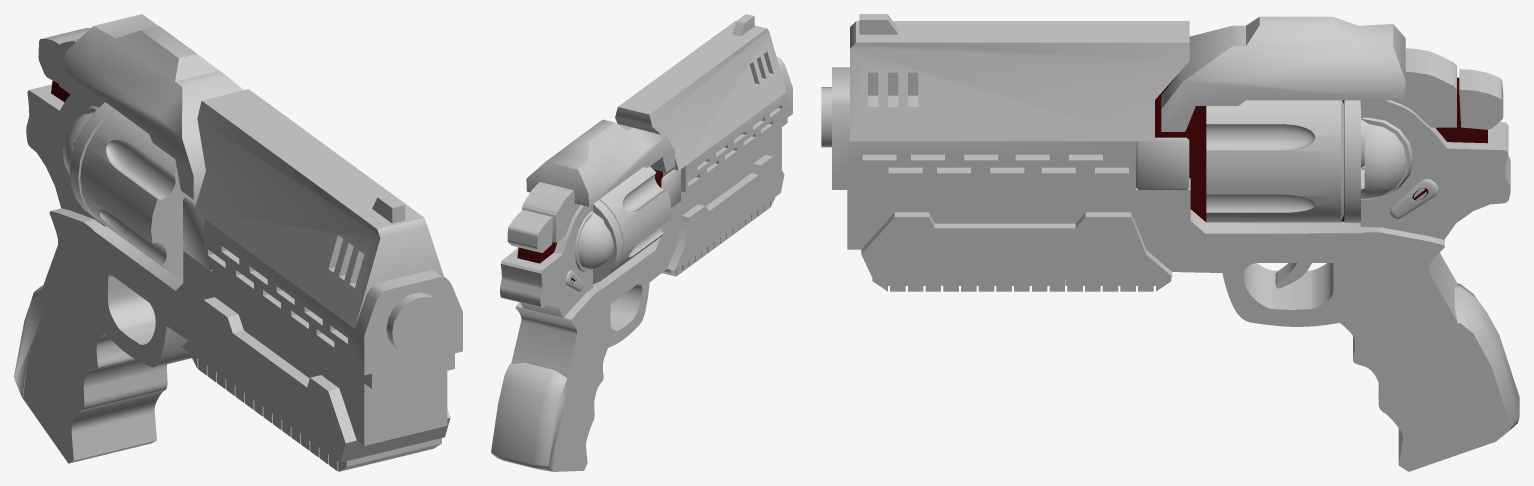
Rendered from pistolaToni.obj.
3 views of the same model, side by side, from view 1: azimuth 30°, elevation 25°; view 2: azimuth 150°, elevation 25°; view 3: azimuth 270°, elevation 25° (orthographic). The views are drawn at different scales.
Parts seen in each view (by area): view 1: Line015, Sphere002, Line003, Line012; view 2: Sphere002, Line015, Line003, Line012; view 3: Sphere002, Line015, Line003, Line012.
Boxes of the visible parts, x1,y1,x2,y2 form: Line015: [65, 14, 443, 328]; Sphere002: [26, 28, 462, 388]; Line003: [14, 208, 197, 463]; Line012: [182, 251, 450, 471]; Sphere002: [500, 14, 792, 317]; Line015: [526, 20, 786, 206]; Line003: [491, 237, 675, 471]; Line012: [660, 127, 784, 276]; Sphere002: [821, 14, 1510, 239]; Line015: [850, 16, 1405, 141]; Line003: [1147, 209, 1519, 471]; Line012: [847, 178, 1190, 291].
Size of the model in its own units: 6.9 by 22.91 by 33.29.
